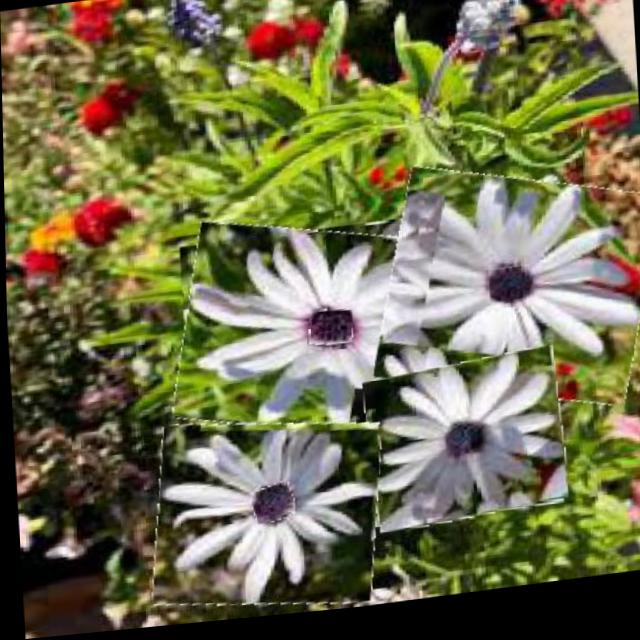Flower: (371, 161, 640, 432), (170, 209, 444, 458), (146, 410, 383, 627), (361, 357, 565, 540), (248, 486, 293, 529), (306, 313, 353, 353), (485, 273, 530, 313), (445, 431, 481, 463)
